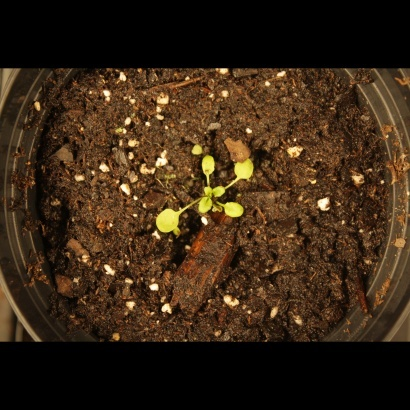leaf: (151, 203, 187, 242), (233, 152, 259, 184), (197, 155, 224, 179), (223, 199, 249, 222), (191, 199, 214, 222), (211, 182, 234, 205)
